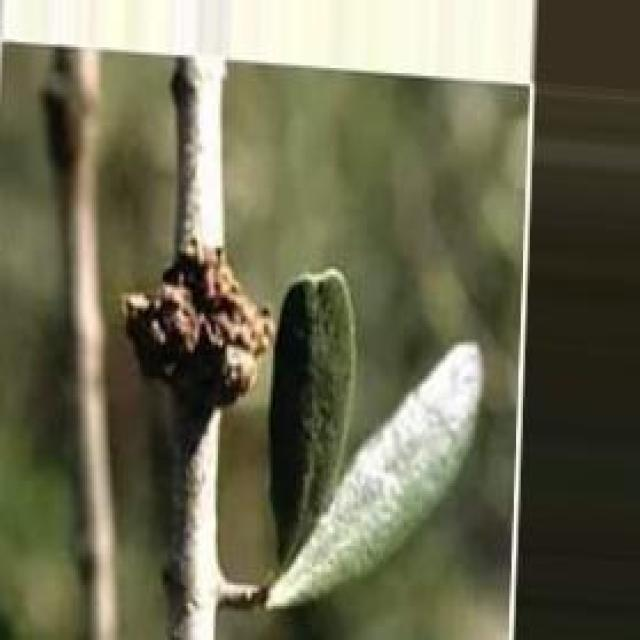Tuberculosis: (122, 238, 270, 418)
